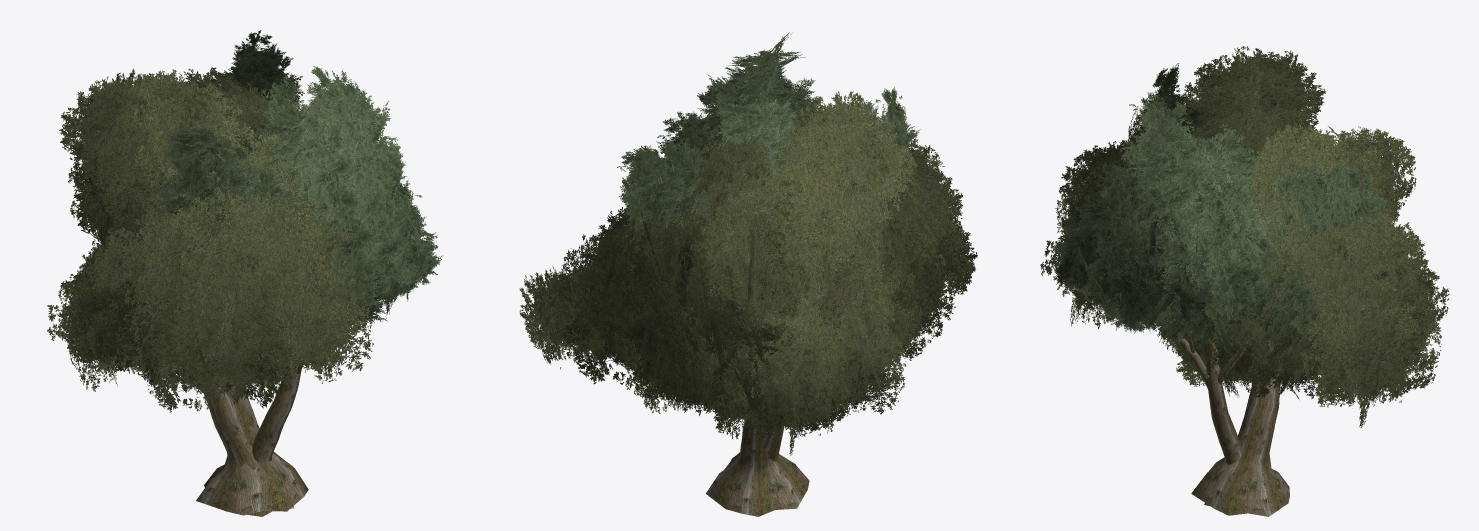
File: trees_broad.glb
3 views of the same model, side by side, from view 1: azimuth 30°, elevation 25°; view 2: azimuth 150°, elevation 25°; view 3: azimuth 270°, elevation 25° (orthographic). The views are drawn at different scales.
Parts seen in each view (by area): view 1: tree_oak_leaves_far, tree_ash_leaves_far, tree_oak_leaves, tree_ash_leaves, tree_oak_b_leaves_far, tree_oak_bark, tree_oak_b_leaves, tree_oak_bark_far, tree_ash_bark, tree_oak_b_bark, tree_ash_bark_far, tree_oak_b_bark_far; view 2: tree_oak_leaves_far, tree_oak_leaves, tree_oak_b_leaves_far, tree_ash_leaves_far, tree_oak_b_leaves, tree_ash_leaves, tree_oak_bark, tree_oak_bark_far; view 3: tree_oak_leaves_far, tree_ash_leaves_far, tree_ash_leaves, tree_oak_leaves, tree_oak_b_leaves_far, tree_oak_bark, tree_oak_b_leaves, tree_oak_bark_far, tree_ash_bark, tree_ash_bark_far.
Part boxes in pixels (x1,y1,x2,y2): tree_oak_leaves_far: [59, 67, 376, 393]; tree_ash_leaves_far: [149, 61, 438, 323]; tree_oak_leaves: [76, 76, 370, 385]; tree_ash_leaves: [174, 30, 443, 309]; tree_oak_b_leaves_far: [47, 193, 303, 412]; tree_oak_bark: [196, 383, 307, 515]; tree_oak_b_leaves: [67, 250, 309, 390]; tree_oak_bark_far: [196, 384, 308, 511]; tree_ash_bark: [252, 105, 339, 462]; tree_oak_b_bark: [199, 386, 293, 516]; tree_ash_bark_far: [252, 360, 303, 463]; tree_oak_b_bark_far: [199, 388, 293, 507]; tree_oak_leaves_far: [519, 91, 977, 413]; tree_oak_leaves: [526, 104, 965, 378]; tree_oak_b_leaves_far: [631, 251, 938, 455]; tree_ash_leaves_far: [597, 32, 917, 279]; tree_oak_b_leaves: [648, 244, 920, 430]; tree_ash_leaves: [596, 43, 920, 258]; tree_oak_bark: [706, 417, 809, 516]; tree_oak_bark_far: [706, 419, 805, 515]; tree_oak_leaves_far: [1040, 46, 1449, 427]; tree_ash_leaves_far: [1051, 63, 1388, 360]; tree_ash_leaves: [1054, 85, 1389, 343]; tree_oak_leaves: [1051, 48, 1436, 402]; tree_oak_b_leaves_far: [1151, 269, 1424, 399]; tree_oak_bark: [1191, 151, 1289, 516]; tree_oak_b_leaves: [1158, 273, 1435, 395]; tree_oak_bark_far: [1191, 379, 1288, 516]; tree_ash_bark: [1176, 181, 1361, 464]; tree_ash_bark_far: [1177, 261, 1286, 464].
Size of the model in its own units: 12.33 by 13.43 by 12.15.
Materials: 3 (3 with a texture image).
